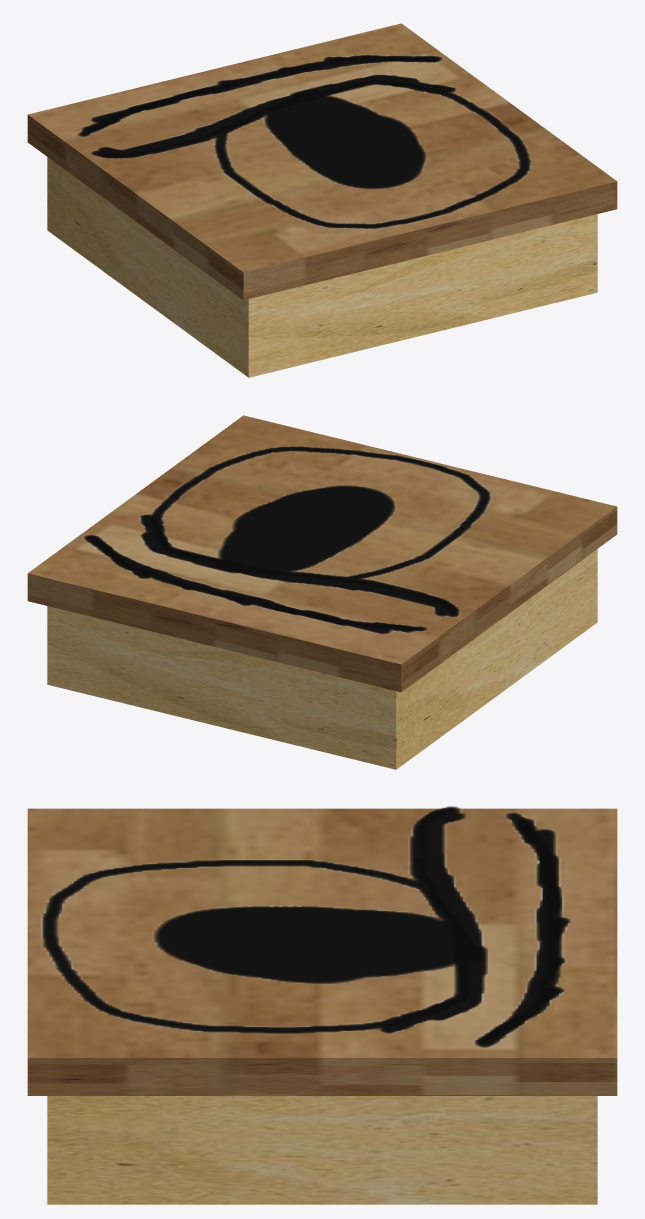
File: PackageV1.glb
The picture shows the model from 3 angles, top to bottom: view 1: azimuth 30°, elevation 25°; view 2: azimuth 150°, elevation 25°; view 3: azimuth 270°, elevation 25°; orthographic projection. The views are drawn at different scales.
Visible parts, largest first — view 1: Cube.001, Cube, IllustratiinEye; view 2: Cube.001, Cube, IllustratiinEye; view 3: Cube.001, Cube, IllustratiinEye.
Part boxes in pixels (x1=…): Cube.001: x1=27, y1=23, x2=617, y2=300; Cube: x1=47, y1=157, x2=597, y2=377; IllustratiinEye: x1=77, y1=54, x2=531, y2=228; Cube.001: x1=27, y1=415, x2=617, y2=692; Cube: x1=47, y1=549, x2=597, y2=769; IllustratiinEye: x1=83, y1=446, x2=491, y2=633; Cube.001: x1=27, y1=808, x2=617, y2=1095; Cube: x1=47, y1=1096, x2=597, y2=1204; IllustratiinEye: x1=41, y1=806, x2=570, y2=1047.
Size of the model in its own units: 2.24 by 0.6406 by 2.24.
Materials: 3 (3 with a texture image).
